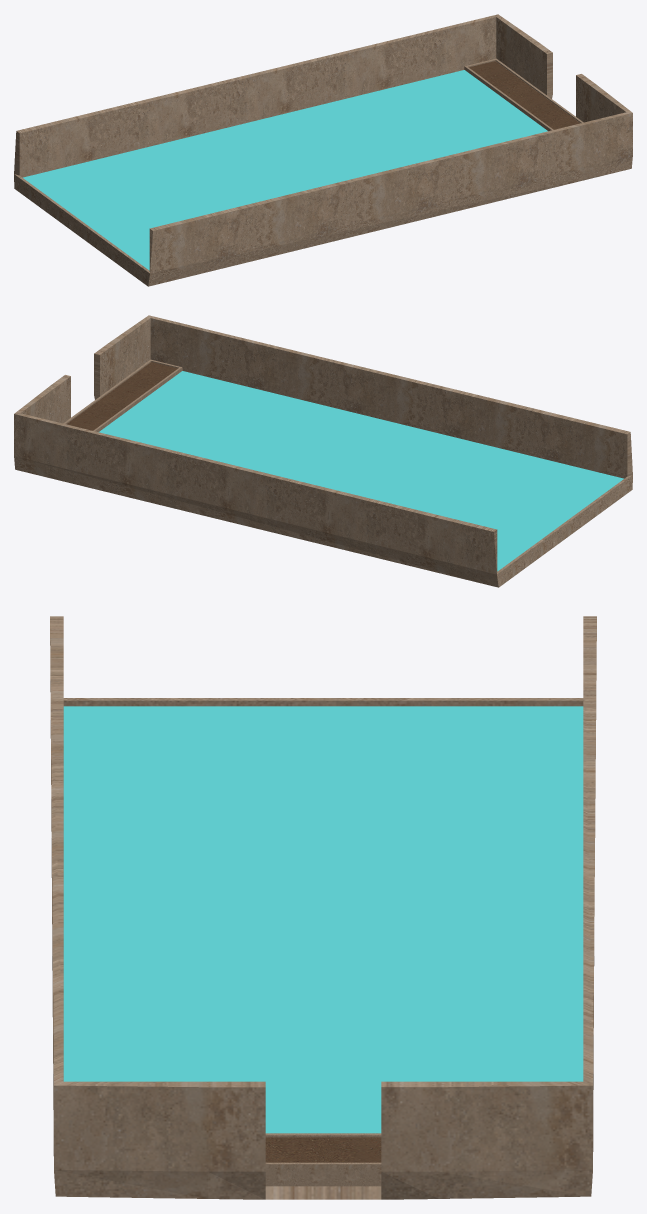
Rendered from Tembok tanah aer.fbx.
3 renders of one model, top to bottom at view 1: azimuth 30°, elevation 25°; view 2: azimuth 150°, elevation 25°; view 3: azimuth 270°, elevation 25°, orthographic. The views are drawn at different scales.
Parts seen in each view (by area): view 1: Tembok Suci_Baked, Aer_Baked, Taman samping gerbang_Baked; view 2: Tembok Suci_Baked, Aer_Baked, Taman samping gerbang_Baked; view 3: Aer_Baked, Tembok Suci_Baked, Taman samping gerbang_Baked.
Part boxes in pixels (left/top/right/bottom): Tembok Suci_Baked: left=14, top=14, right=632, bottom=286; Aer_Baked: left=23, top=70, right=547, bottom=270; Taman samping gerbang_Baked: left=464, top=58, right=583, bottom=130; Tembok Suci_Baked: left=14, top=315, right=632, bottom=587; Aer_Baked: left=99, top=371, right=623, bottom=571; Taman samping gerbang_Baked: left=63, top=359, right=182, bottom=431; Aer_Baked: left=63, top=706, right=583, bottom=1133; Tembok Suci_Baked: left=50, top=616, right=596, bottom=1199; Taman samping gerbang_Baked: left=265, top=1133, right=381, bottom=1186.
Bounding box in the file's own units: 3886 × 442 × 1894.
3 materials, 3 textured.
